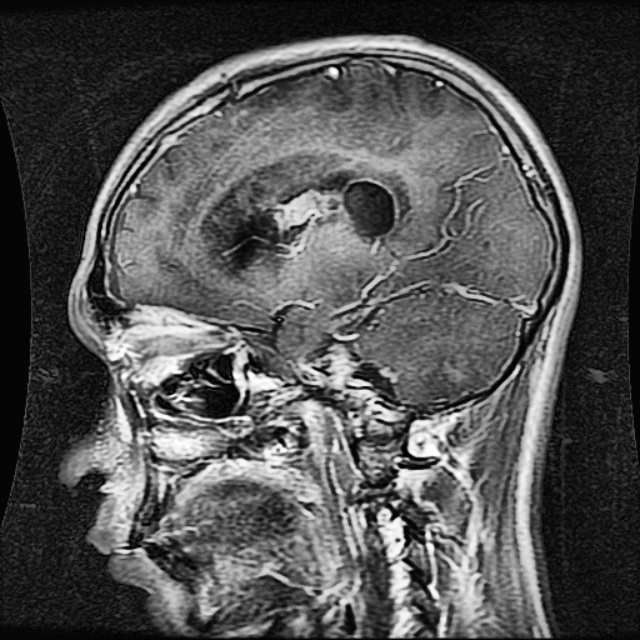Meningioma: (237, 174, 403, 272)
